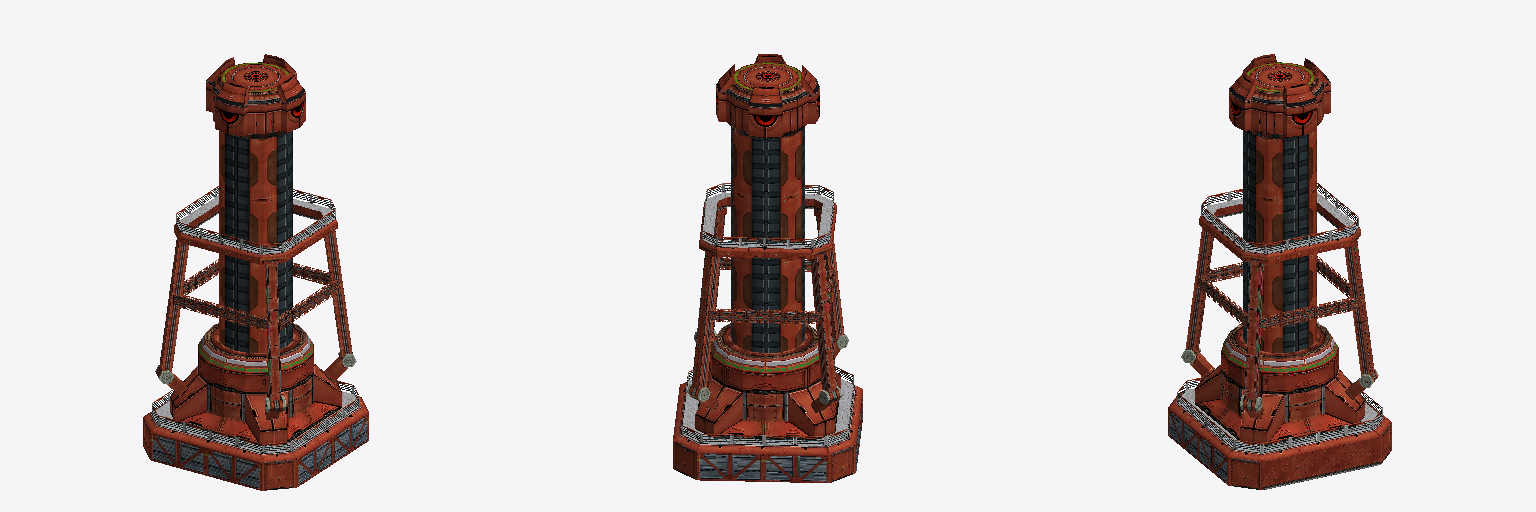
3 renders of one model, left to right at view 1: azimuth 30°, elevation 25°; view 2: azimuth 150°, elevation 25°; view 3: azimuth 270°, elevation 25°, orthographic.
Visible parts, largest first — view 1: polygon9, polygon8, polygon1, polygon4, polygon0, polygon2, polygon13, polygon12, polygon5, polygon7, polygon10, polygon6 (+3 smaller); view 2: polygon8, polygon2, polygon9, polygon4, polygon0, polygon1, polygon12, polygon13, polygon7, polygon10, polygon5, polygon3 (+2 smaller); view 3: polygon8, polygon4, polygon0, polygon1, polygon2, polygon9, polygon11, polygon13, polygon12, polygon5, polygon7, polygon10 (+3 smaller).
Boxes of the visible parts, box(x1,y1,x2,y2) form: polygon9: box(150, 354, 368, 490); polygon8: box(143, 218, 368, 462); polygon1: box(213, 120, 292, 352); polygon4: box(159, 231, 352, 421); polygon0: box(206, 54, 305, 136); polygon2: box(219, 131, 276, 352); polygon13: box(152, 186, 359, 453); polygon12: box(153, 195, 358, 452); polygon5: box(173, 259, 340, 331); polygon7: box(198, 333, 313, 373); polygon10: box(143, 227, 296, 490); polygon6: box(174, 262, 339, 328); polygon8: box(673, 194, 862, 454); polygon2: box(733, 129, 801, 351); polygon9: box(697, 353, 862, 482); polygon4: box(692, 214, 843, 421); polygon0: box(716, 54, 819, 137); polygon1: box(729, 124, 805, 352); polygon12: box(683, 192, 853, 445); polygon13: box(682, 183, 853, 445); polygon7: box(711, 334, 818, 373); polygon10: box(673, 213, 855, 482); polygon5: box(708, 257, 834, 323); polygon3: box(687, 329, 848, 404); polygon8: box(1168, 198, 1391, 461); polygon4: box(1185, 228, 1374, 421); polygon0: box(1229, 54, 1330, 136); polygon1: box(1243, 124, 1318, 352); polygon2: box(1256, 131, 1316, 352); polygon9: box(1168, 348, 1355, 484); polygon11: box(1214, 203, 1380, 489); polygon13: box(1177, 183, 1382, 452); polygon12: box(1179, 192, 1381, 451); polygon5: box(1197, 256, 1359, 330); polygon7: box(1221, 331, 1338, 373); polygon10: box(1228, 230, 1391, 489).
Bounding box in the file's own units: 304 × 561 × 304.
Materials: 13 (13 with a texture image).